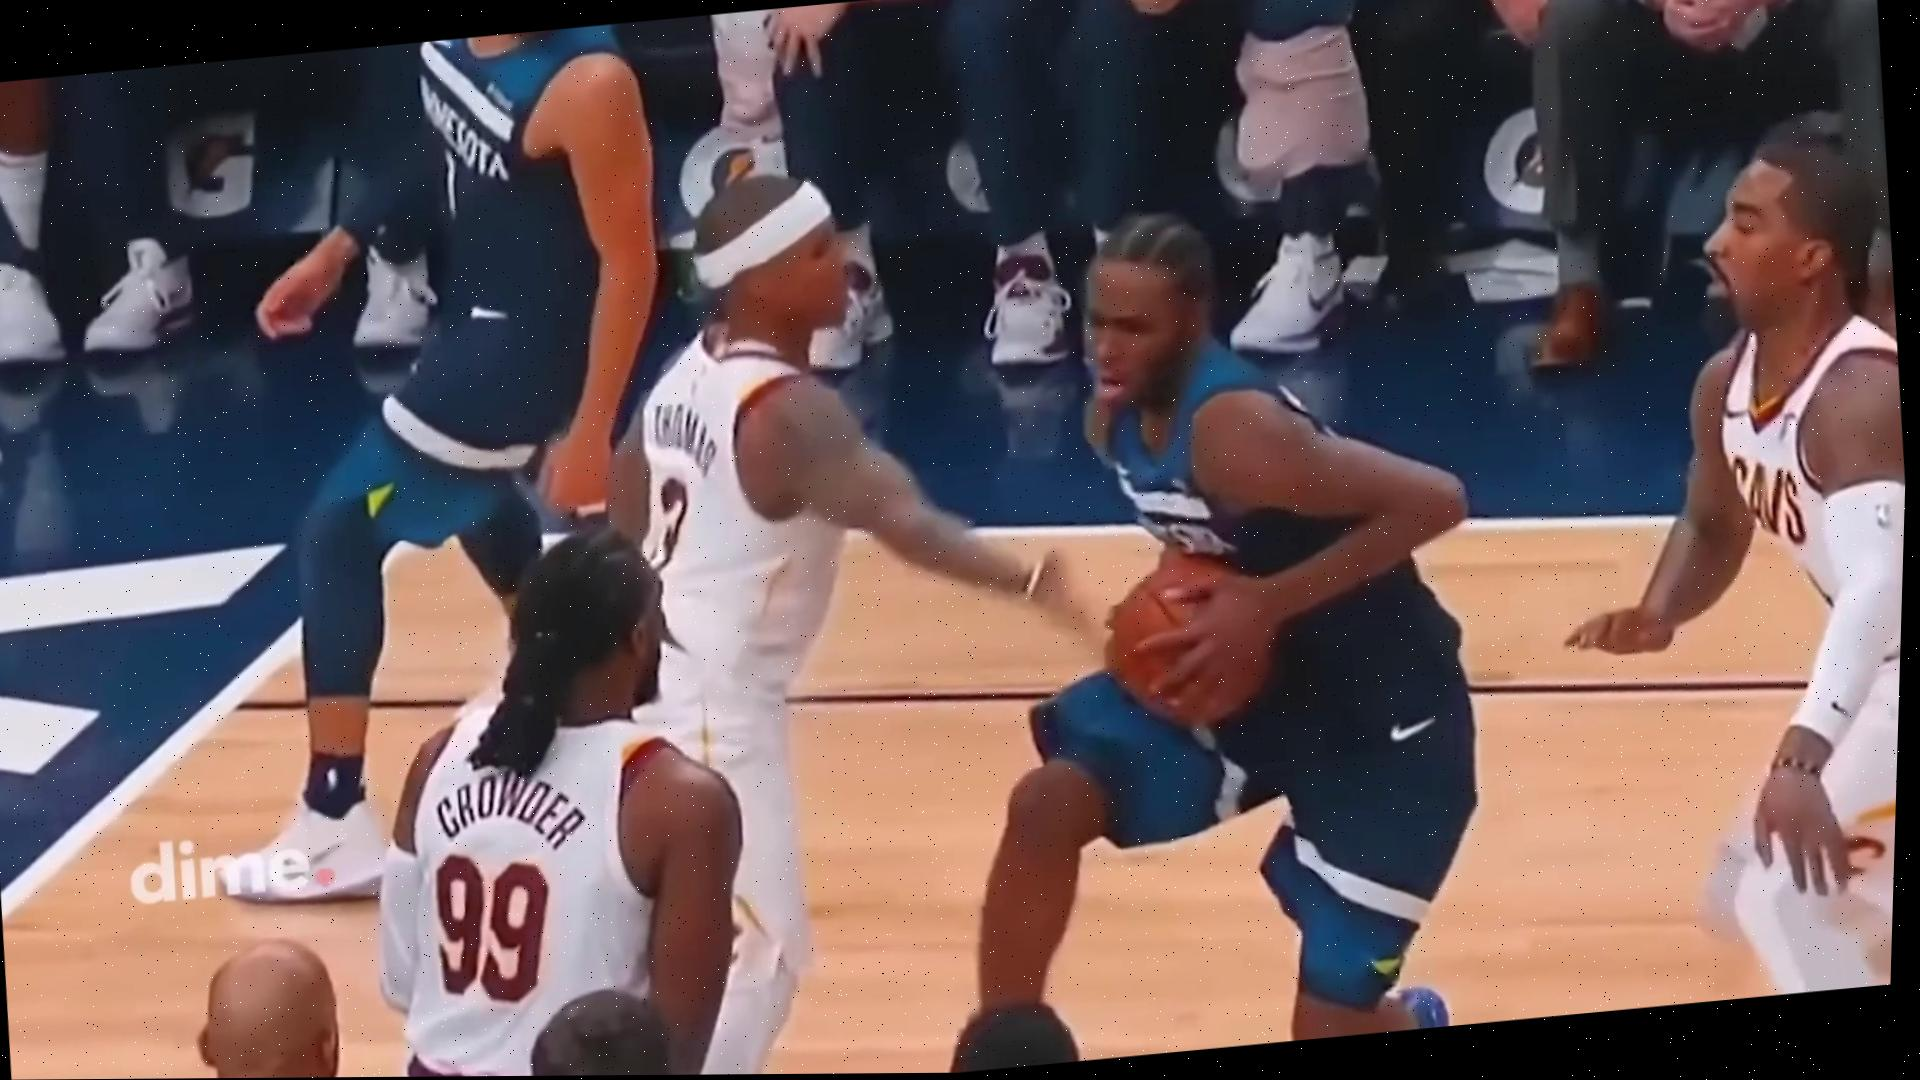no_foul: (567, 65, 1542, 1076)
